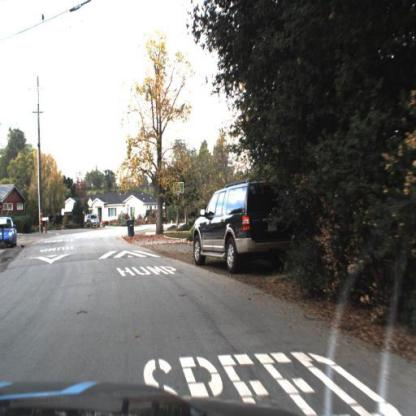car: (184, 171, 305, 279), (1, 206, 24, 259), (1, 211, 22, 252), (83, 210, 104, 235), (81, 209, 101, 233)
